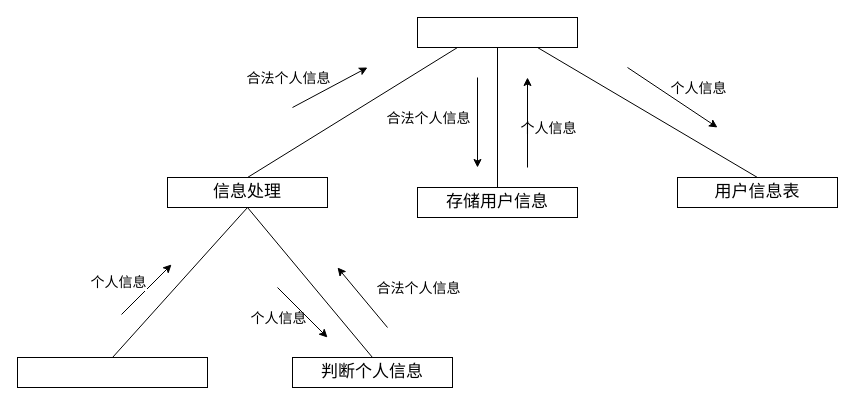
Some shapes in this 855 by 405 pixel diagram are drawn without their labels. The centre of each missing label's shape, as x and y in pixels:
"人脸识别签到系统" goes at (497,32).
"输入用户或管理员数据" goes at (112,372).
